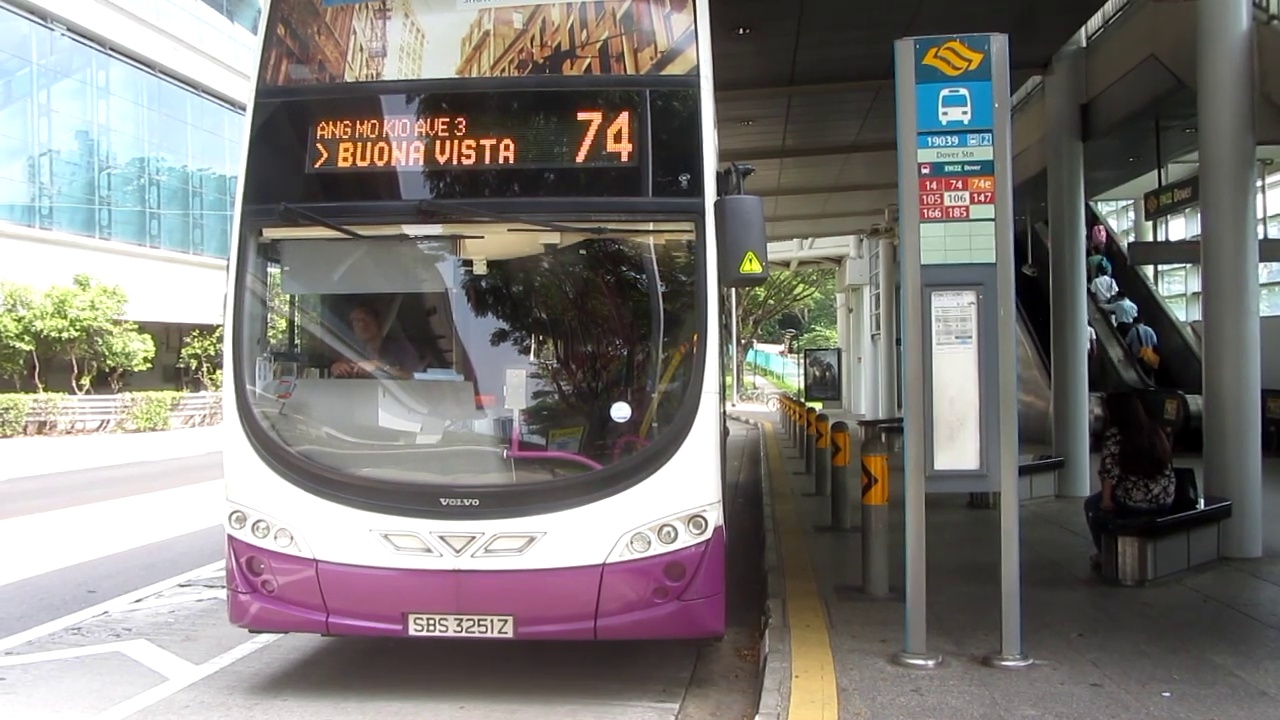bus panel: (302, 107, 641, 177)
